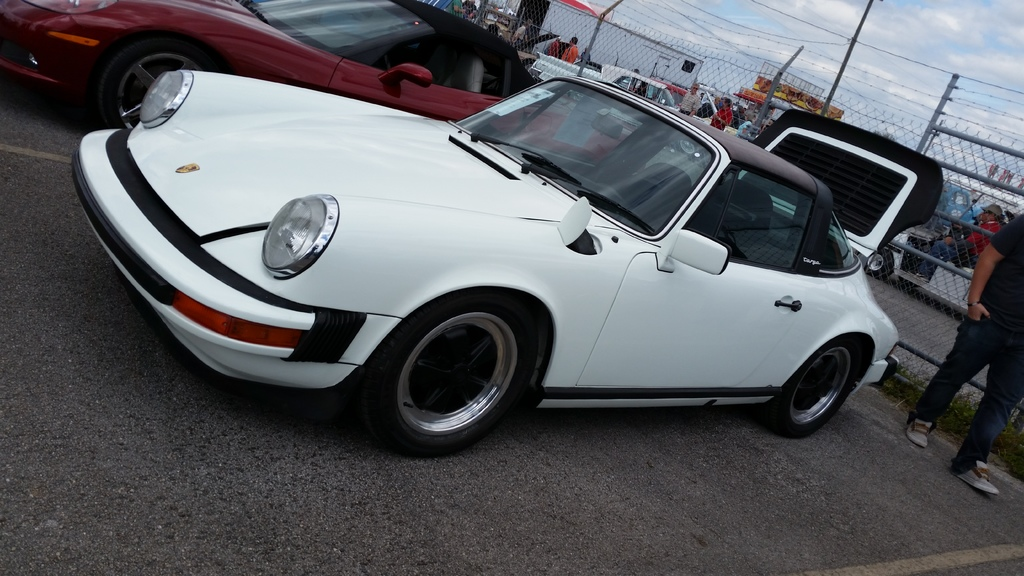person: (916, 232, 961, 279)
